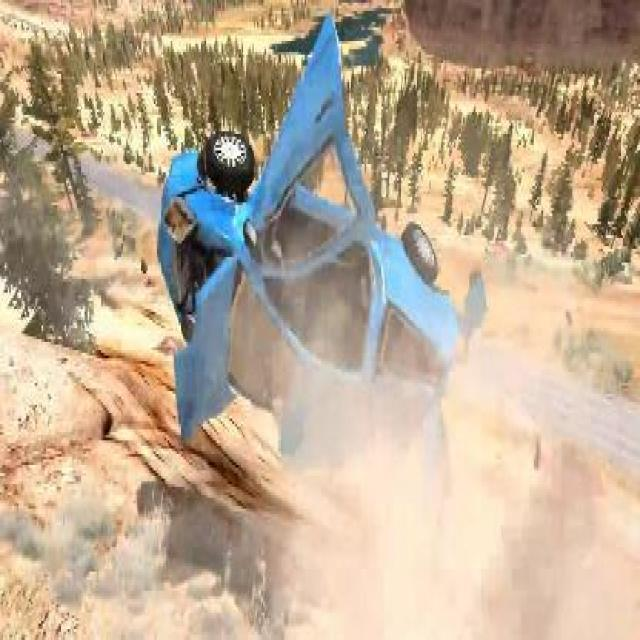accident: (146, 110, 474, 482)
